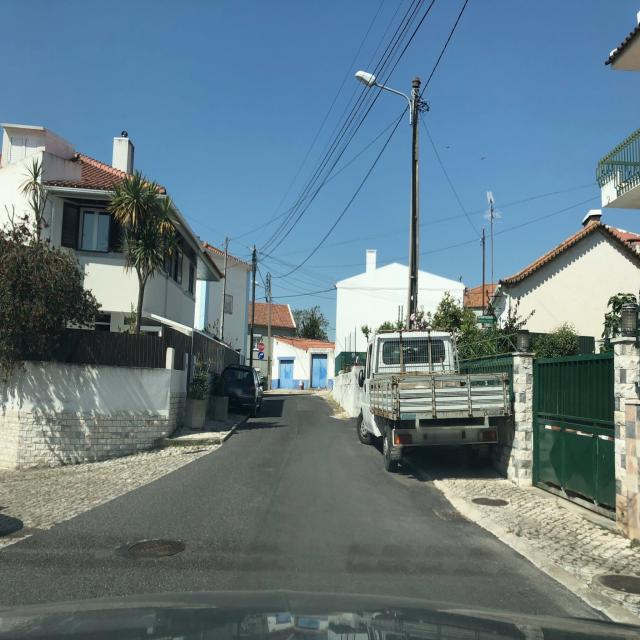car: (356, 327, 523, 473), (222, 364, 264, 415)
